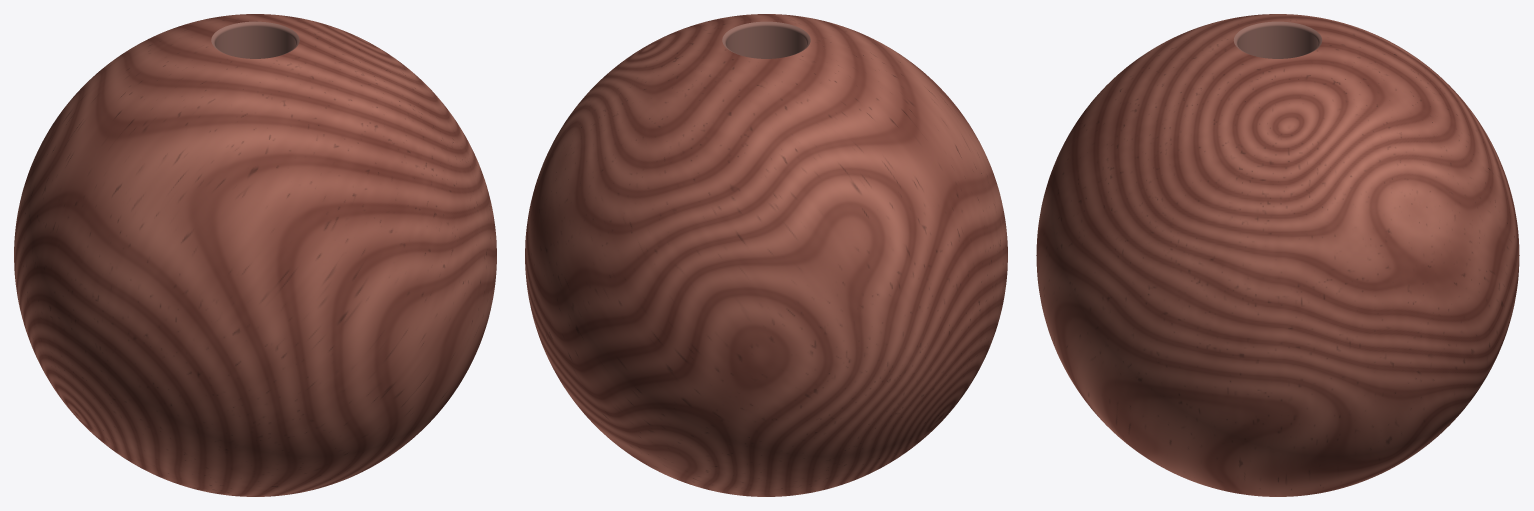
The model's file is wood-redbean-wood-6mm.glb.
The picture shows the model from 3 angles, left to right: view 1: azimuth 30°, elevation 25°; view 2: azimuth 150°, elevation 25°; view 3: azimuth 270°, elevation 25°; orthographic projection.
Parts seen in each view (by area): view 1: redbean-wood; view 2: redbean-wood; view 3: redbean-wood.
Part boxes in pixels (box(x1,y1,x2,y2)): redbean-wood: box(14, 14, 496, 496); redbean-wood: box(525, 14, 1007, 496); redbean-wood: box(1036, 14, 1519, 496).
Size of the model in its own units: 0.006 by 0.0059 by 0.006.
2 materials, 1 textured.
